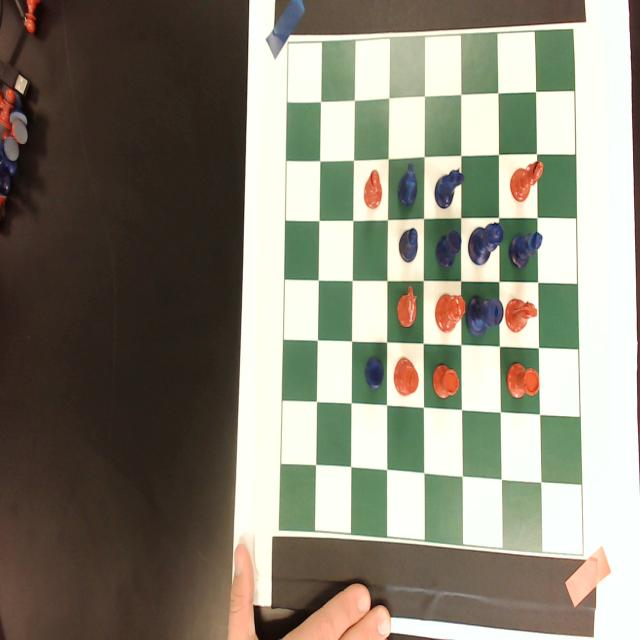B: (508, 228, 544, 274), (398, 226, 418, 264)
K: (466, 293, 504, 340)
N: (432, 168, 467, 208), (396, 162, 419, 208)
Q: (467, 221, 504, 268)
R: (433, 228, 462, 272), (364, 354, 385, 392)
b: (509, 157, 544, 203), (362, 168, 383, 209)
k: (392, 354, 420, 395)
n: (504, 296, 540, 338), (396, 284, 419, 328)
q: (435, 293, 467, 334)
r: (507, 360, 540, 406), (432, 361, 460, 402)
